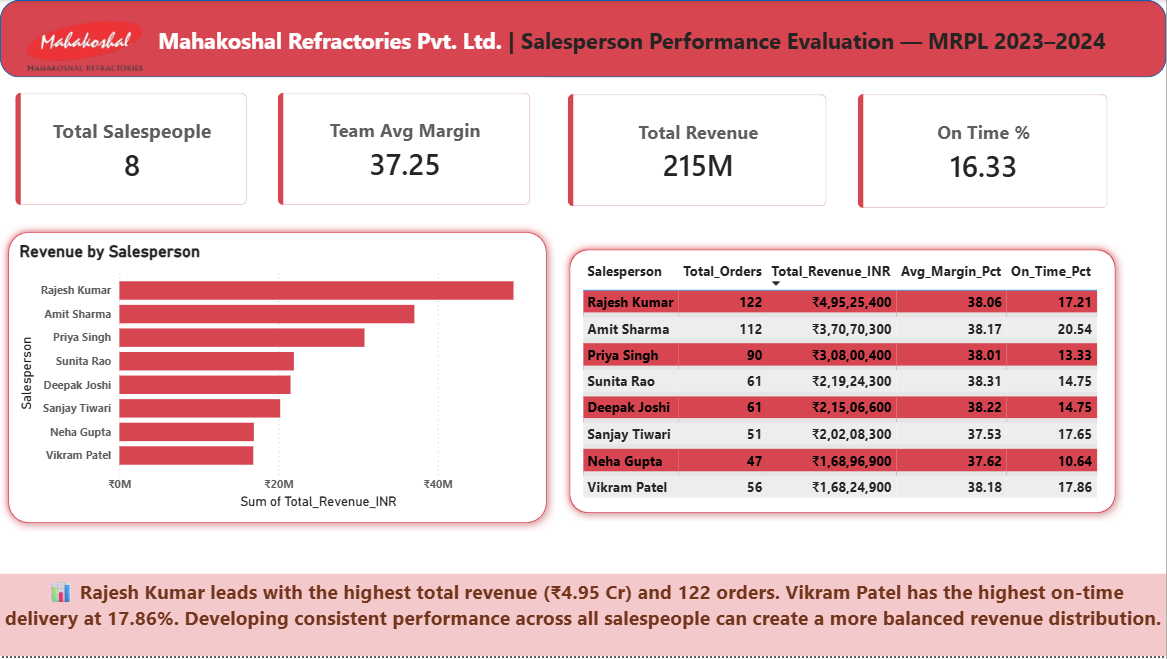

The page's visual inventory and layout, read from the dashboard file:
{"tool":"powerbi","page":{"name":"Salesperson Performance","canvas":[1280,720],"ordinal":3},"visuals":[{"type":"shape","box":[0,0,1280.3,85.1],"z":0},{"type":"textbox","box":[107,23.3,1173.2,61.7],"z":1000},{"type":"image","box":[0,0,185.2,98.8],"z":2000},{"type":"cardVisual","fields":{"Data":["CountNonNull(Salesperson_Performance.Total_Orders)"]},"box":[0,85.1,288.2,157.8],"z":3000},{"type":"cardVisual","fields":{"Data":["Raw_Data.Total Revenue"]},"box":[606.5,86.4,318.4,157.8],"z":4000},{"type":"cardVisual","fields":{"Data":["Raw_Data.Gross Margin %"]},"box":[288.2,85.1,311.5,157.8],"z":5000},{"type":"cardVisual","fields":{"Data":["Raw_Data.On Time %"]},"box":[924.9,86.4,308.7,159.2],"z":6000},{"type":"shape","box":[616.1,264.8,617.5,307.4],"z":7000},{"type":"shape","box":[0,245.6,609.3,337.6],"z":8000},{"type":"clusteredBarChart","title":"Revenue by Salesperson","fields":{"Category":["Salesperson_Performance.Salesperson"],"Y":["Sum(Salesperson_Performance.Total_Revenue_INR)"]},"box":[16.5,264.8,573.6,299.1],"z":9000},{"type":"tableEx","fields":{"Values":["Salesperson_Performance.Salesperson","Salesperson_Performance.Total_Orders","Salesperson_Performance.Total_Revenue_INR","Salesperson_Performance.Avg_Margin_Pct","Salesperson_Performance.On_Time_Pct"]},"box":[634,279.9,583.2,277.2],"z":10000},{"type":"textbox","box":[0,629.8,1280.3,90.6],"z":11000}]}

Visuals, with their boxes in screenshot pixels (x1, y1, x2, y2), scaled from the page's 1280x720 canvas onto the 1167x659 screenshot:
shape: bbox=(0, 0, 1166, 78)
textbox: bbox=(98, 21, 1166, 78)
image: bbox=(0, 0, 169, 90)
cardVisual - CountNonNull(Salesperson_Performance.Total_Orders): bbox=(0, 78, 263, 222)
cardVisual - Raw_Data.Total Revenue: bbox=(553, 79, 843, 224)
cardVisual - Raw_Data.Gross Margin %: bbox=(263, 78, 547, 222)
cardVisual - Raw_Data.On Time %: bbox=(843, 79, 1125, 225)
shape: bbox=(562, 242, 1125, 524)
shape: bbox=(0, 225, 556, 534)
"Revenue by Salesperson" clusteredBarChart: bbox=(15, 242, 538, 516)
tableEx - Salesperson_Performance.Salesperson x Salesperson_Performance.Total_Orders: bbox=(578, 256, 1110, 510)
textbox: bbox=(0, 576, 1166, 658)
